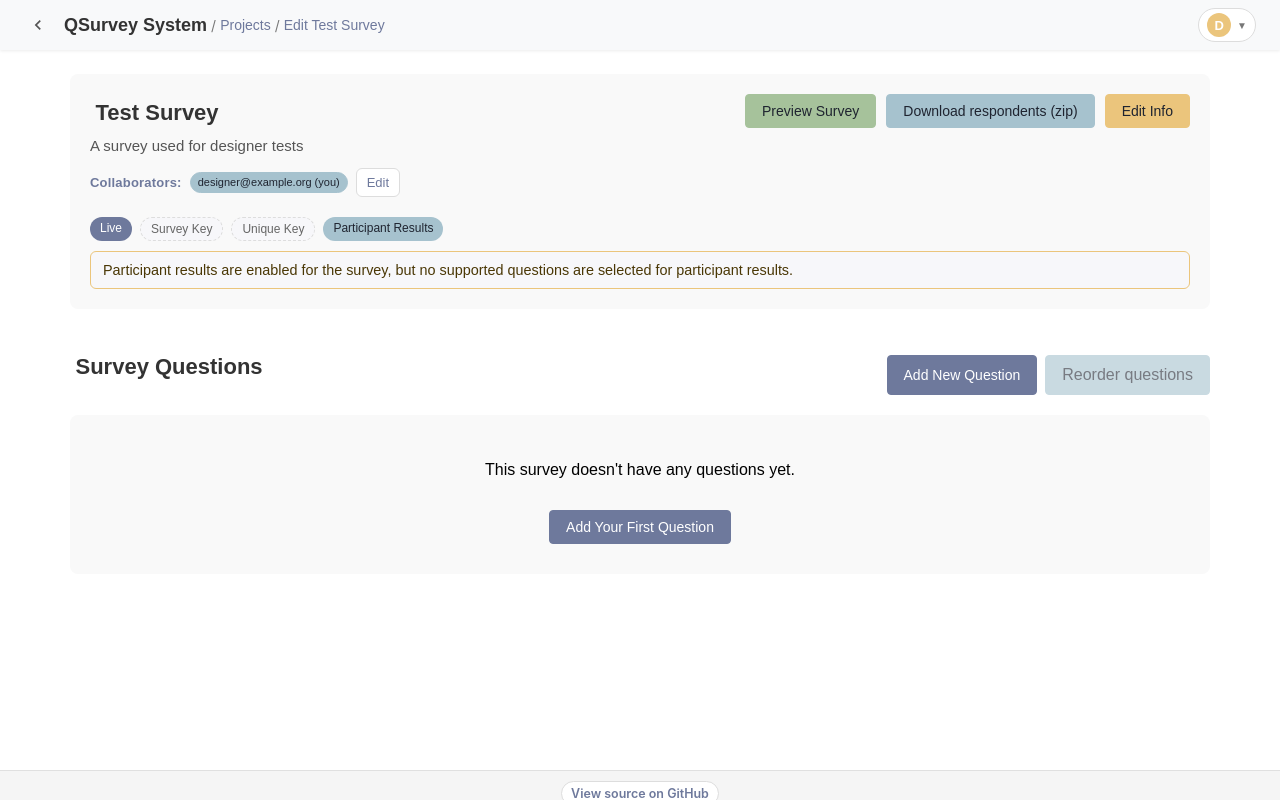
Scenario: SurveyEdit designer workflows › continues processing tokens and surfaces which email failed lookup
Expected: the text "Collaborators:" is shown, [90,175,182,190]
Click the button with aria-label "edit collaborators": [378, 182] box [356,168,400,197]
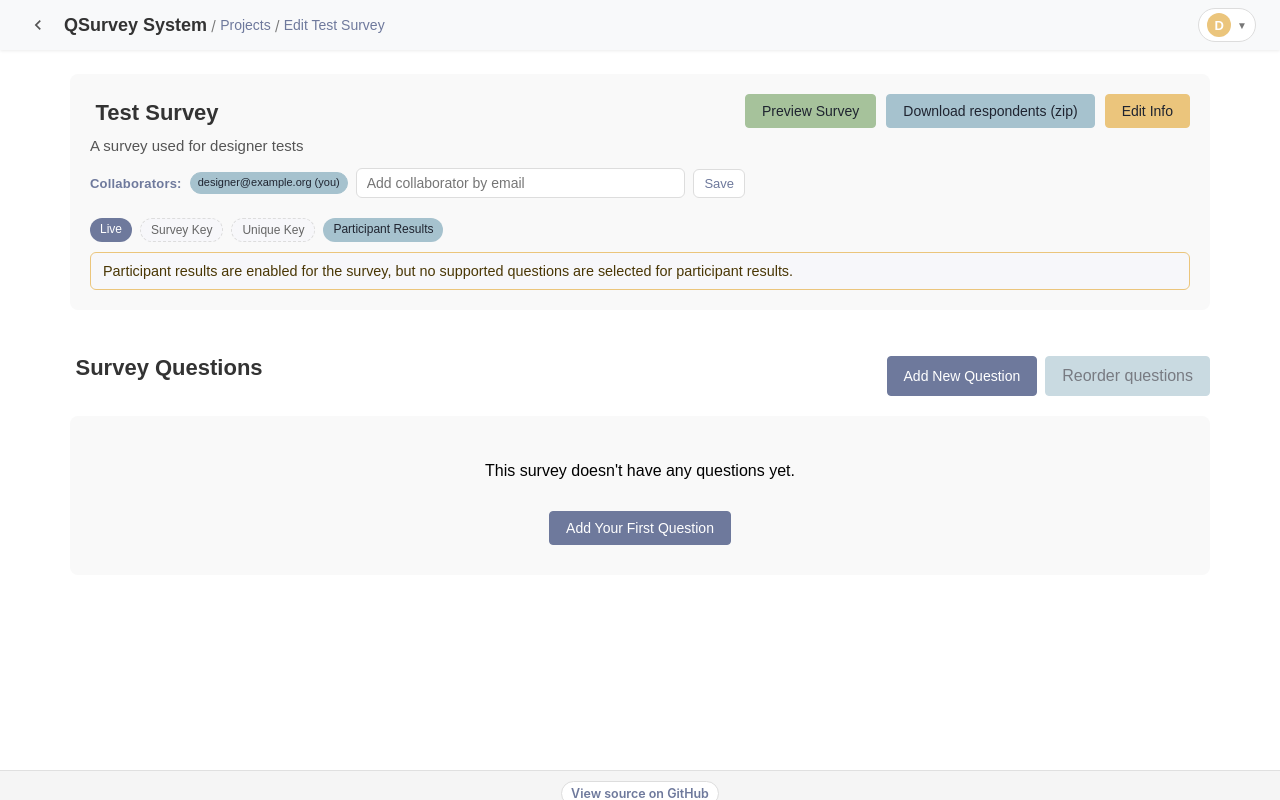
In the field named "Add collaborator email": [521, 183] box [356,168,685,198], type "missing@example.com, found@example.com"
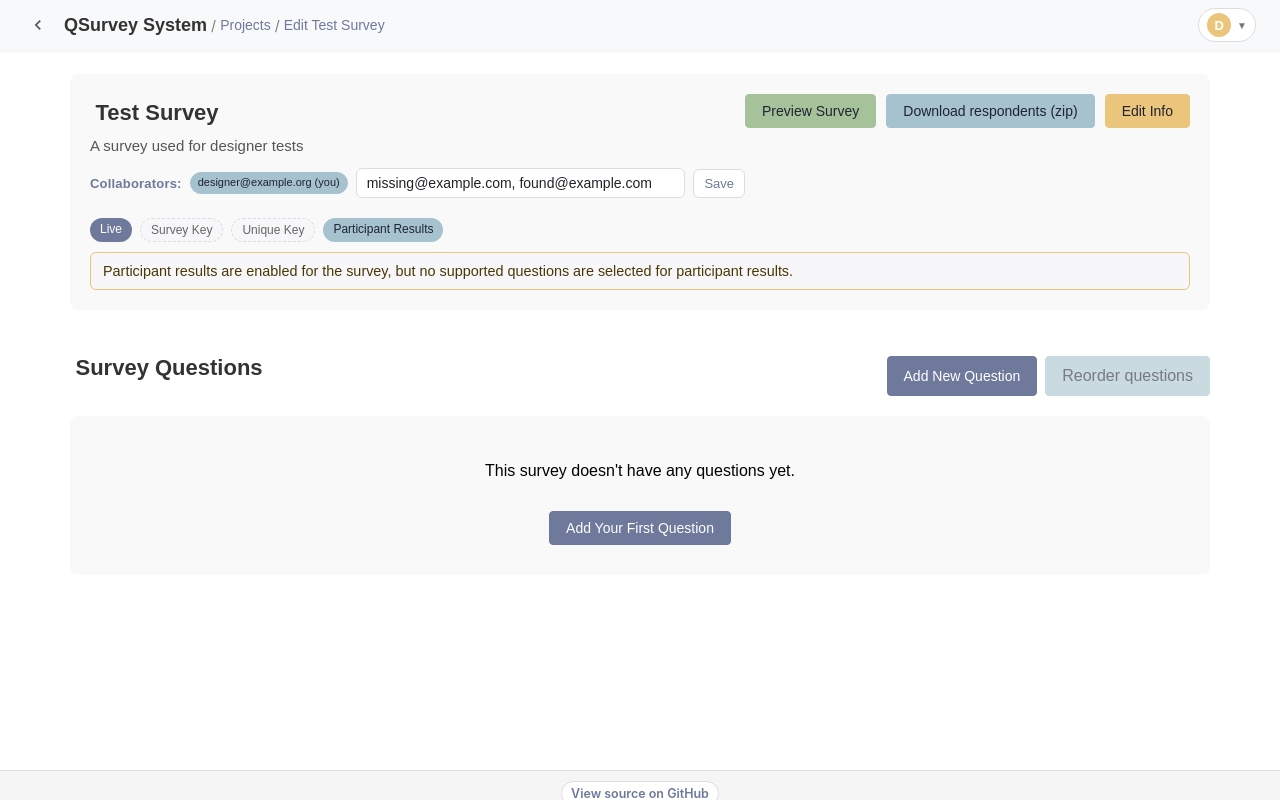
Press Enter in the field named "Add collaborator email", box [356,168,685,198]
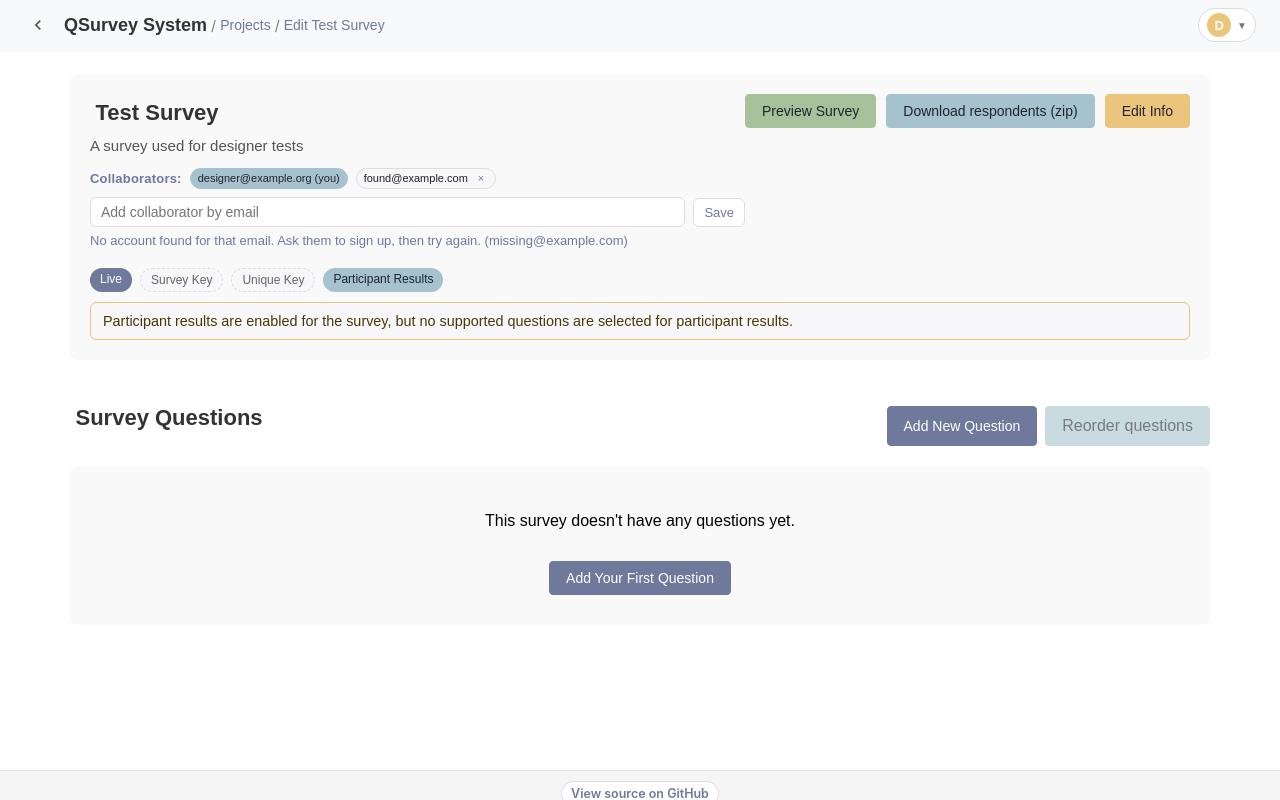
Expected: the text "found@example.com" is shown, [364,172,468,184]
Expected: the text "missing@example.com" is shown, [90,233,628,248]
